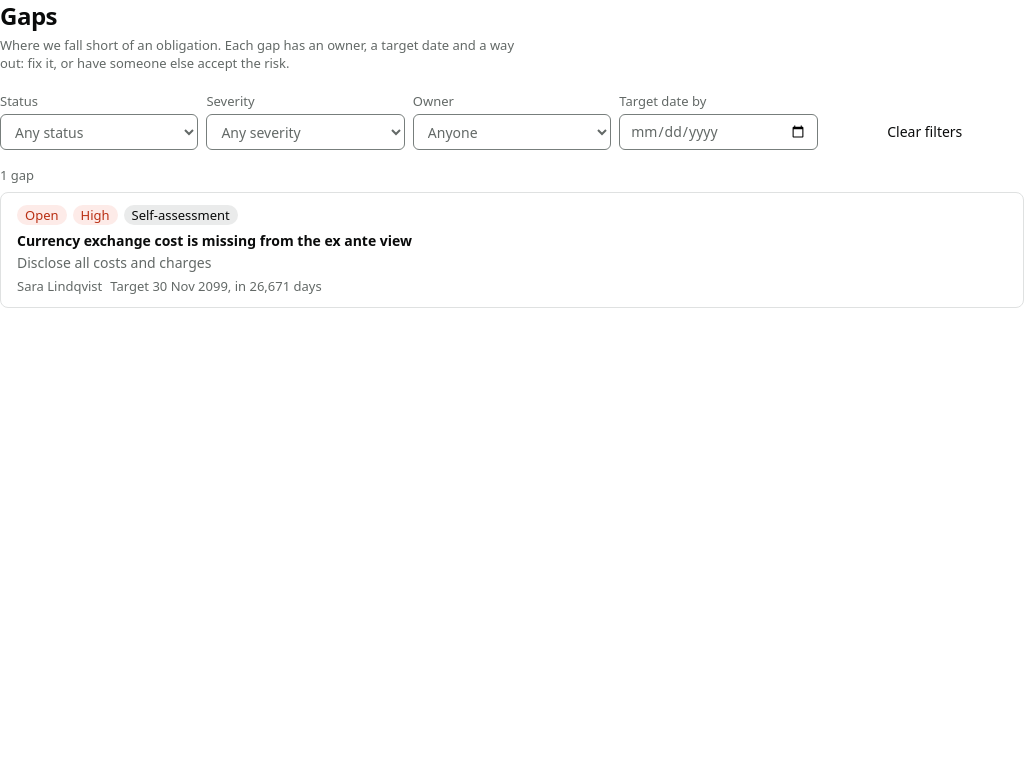
Test: the way out › asks to accept the risk with a reason key, showing the labels (en)
Later steps or results of the test are not shown.
Click the button "Currency exchange cost is missing from the ex ante view".
click(215, 241)  # box [17,231,412,251]
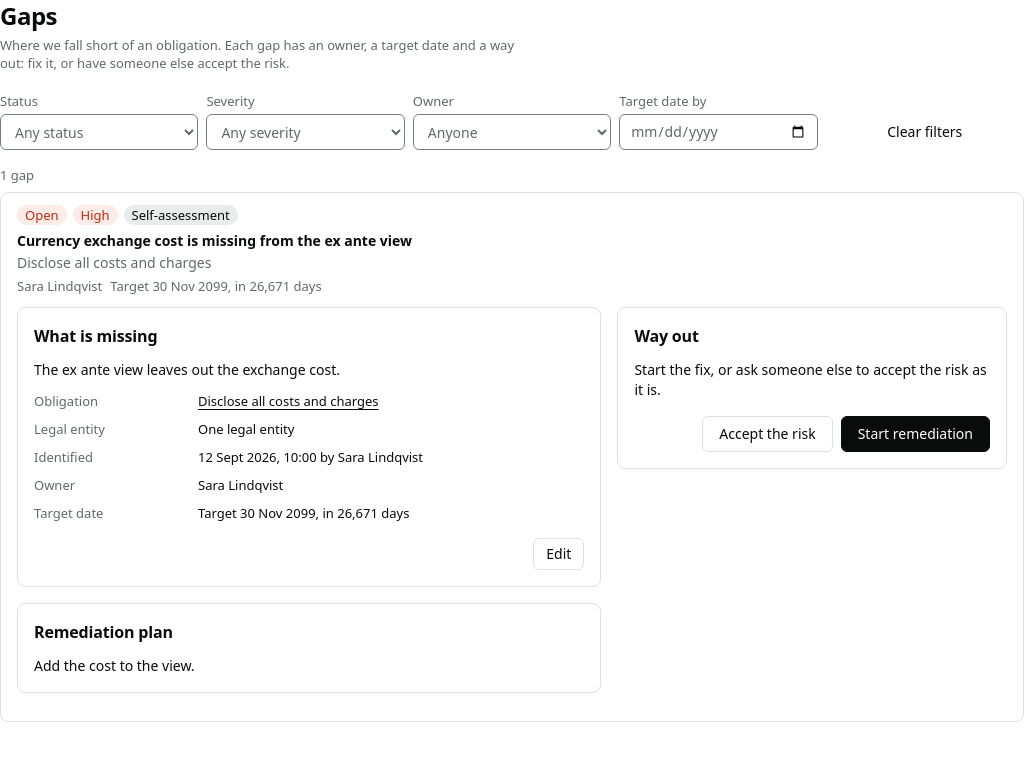
Click the button "Accept the risk".
click(768, 434)  # box [702,416,833,452]
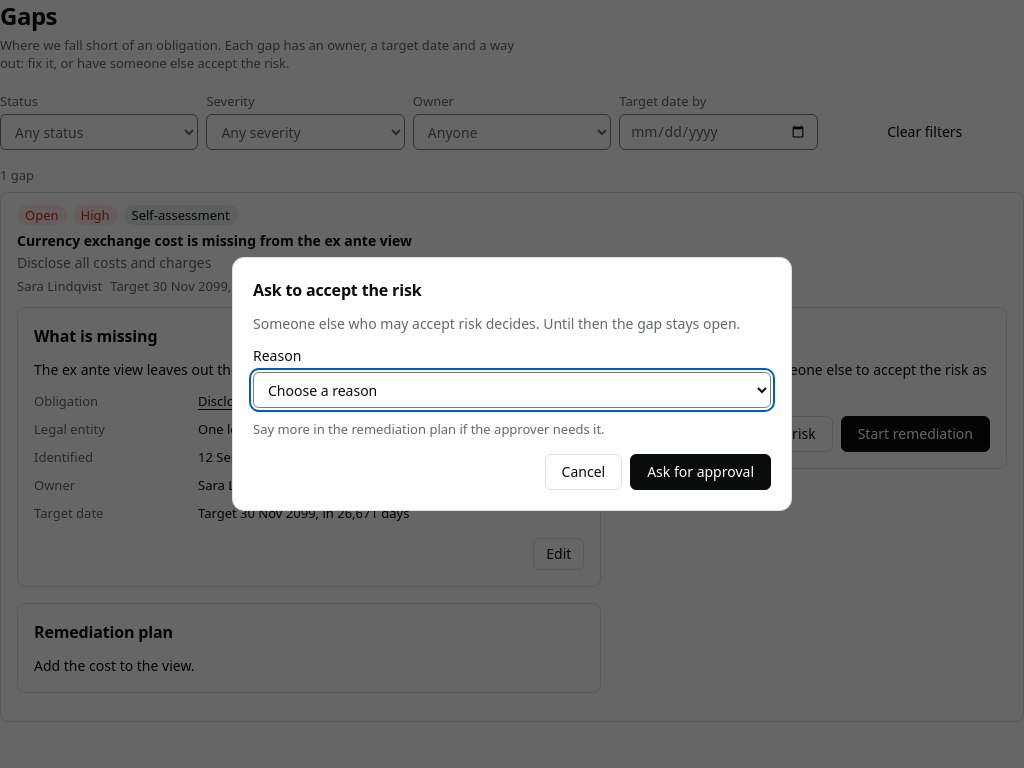
Click the button "Ask for approval".
click(701, 472)  # box [630,454,771,490]
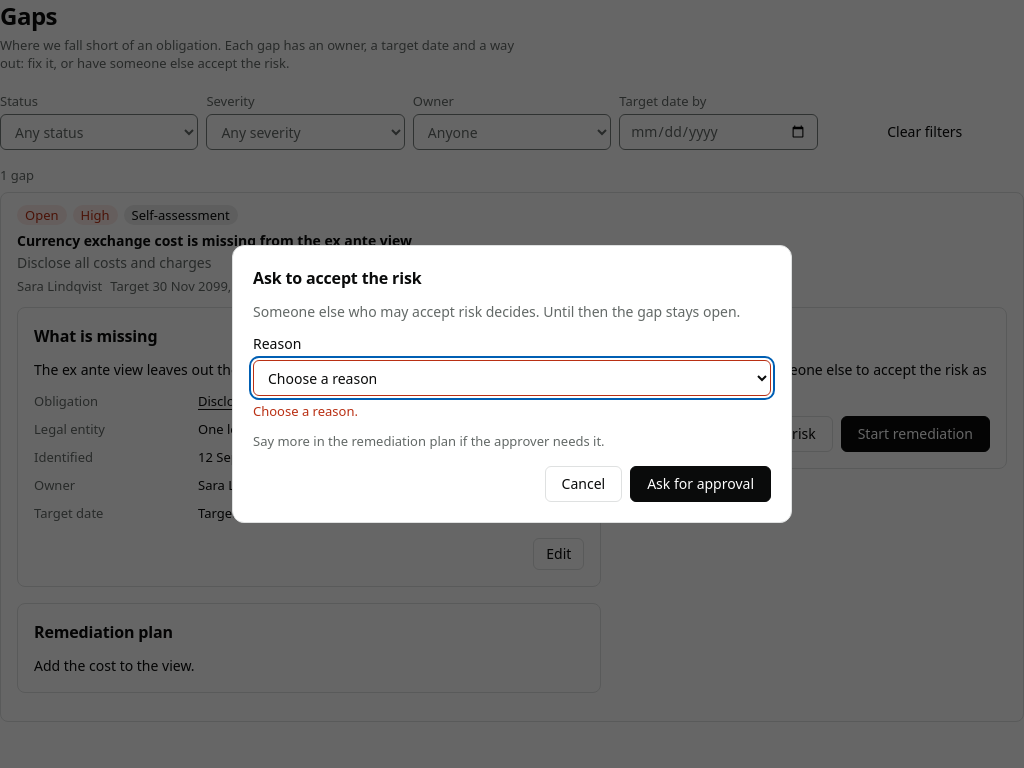
Now the text "Choose a reason." is shown, box [253,402,358,420]
